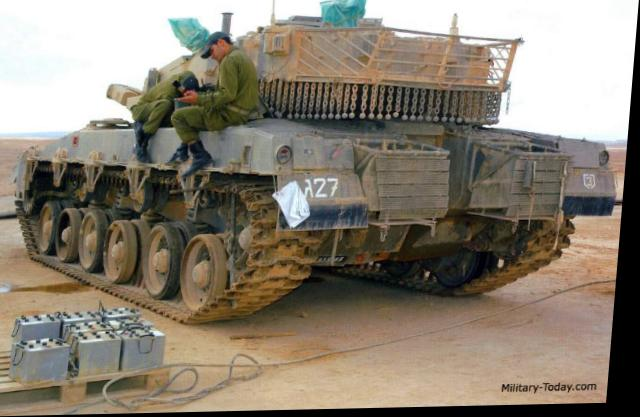other: (182, 27, 275, 134), (103, 64, 202, 134)
tank: (5, 5, 593, 310)
